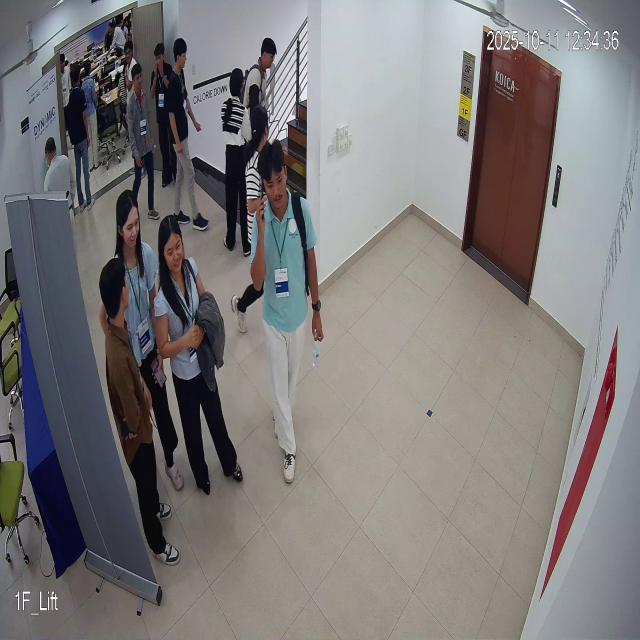face: (258, 138, 292, 216), (154, 210, 192, 278), (114, 183, 146, 250)
